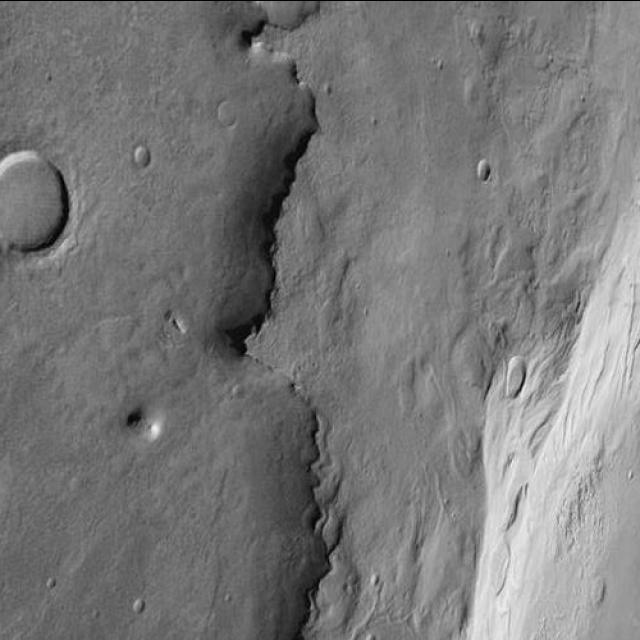crater: (0, 150, 76, 260), (504, 354, 526, 406), (132, 144, 151, 172), (630, 0, 640, 22)
